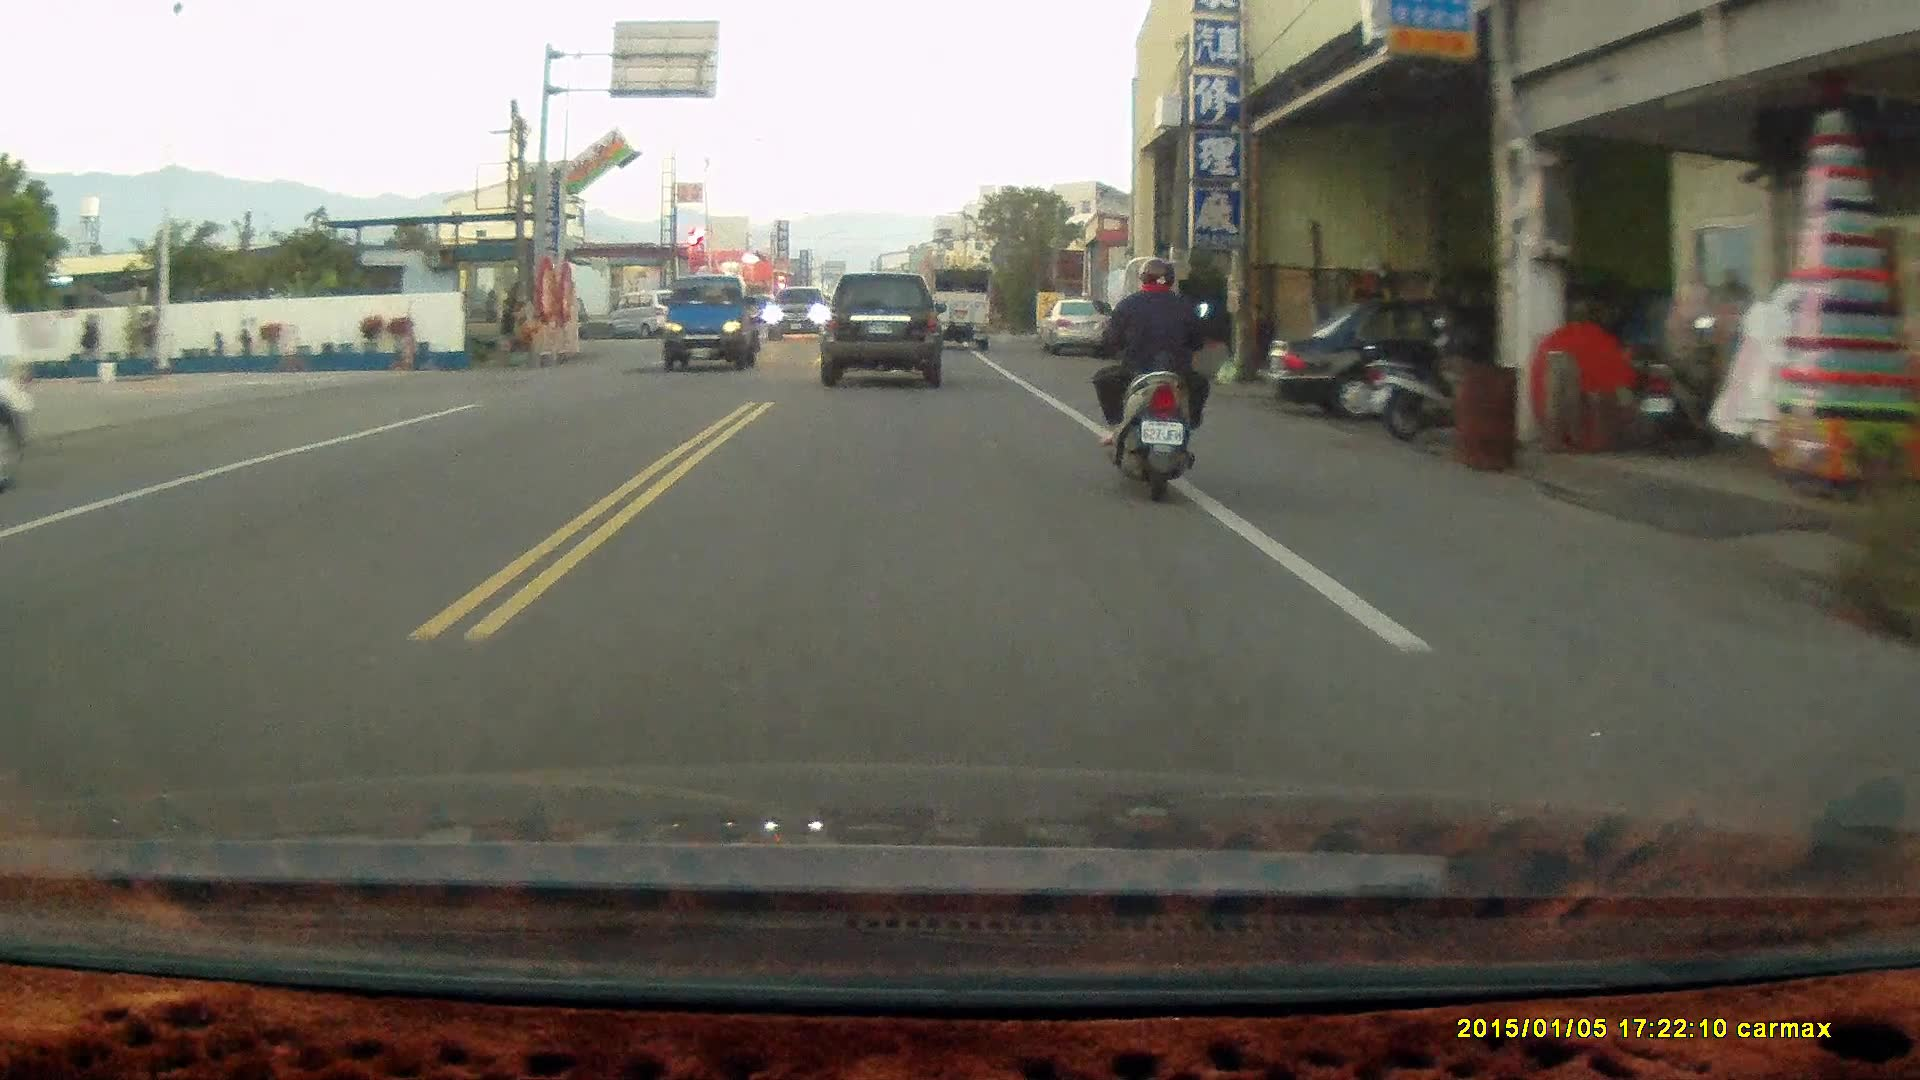rider: (1092, 258, 1211, 506)
vehicle: (1258, 289, 1557, 421), (825, 272, 944, 388), (660, 274, 771, 372), (925, 269, 995, 353), (1043, 292, 1123, 358), (607, 291, 695, 337), (766, 284, 827, 338)
